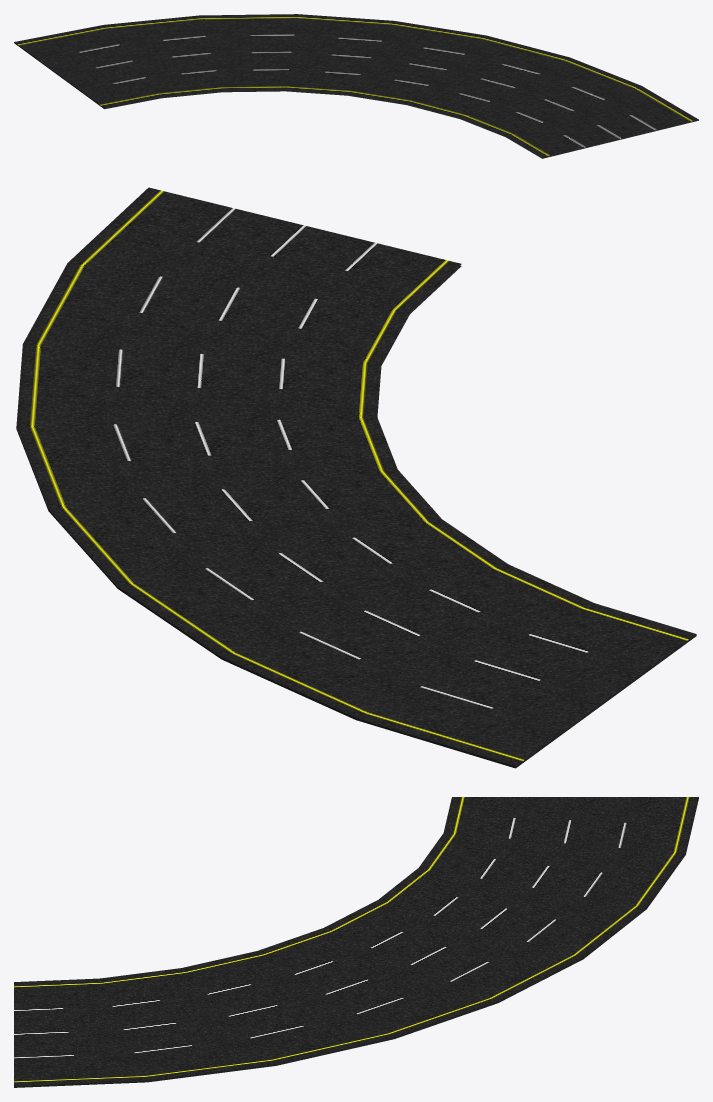
Rendered from curved_4lane_50m.dae.
3 renders of one model, top to bottom at view 1: azimuth 30°, elevation 25°; view 2: azimuth 150°, elevation 25°; view 3: azimuth 270°, elevation 25°, orthographic. The views are drawn at different scales.
Visible parts, largest first — view 1: Cube; view 2: Cube; view 3: Cube.
Boxes of the visible parts, x1=… form: Cube: x1=14, y1=14, x2=698, y2=158; Cube: x1=16, y1=187, x2=696, y2=768; Cube: x1=14, y1=797, x2=698, y2=1087.
Size of the model in its own units: 61 by 61 by 0.14.
1 material, 1 textured.
